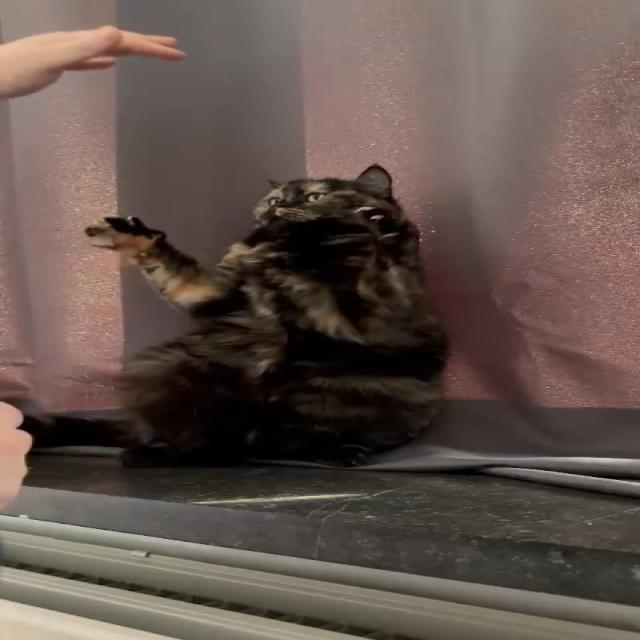authorized: (81, 162, 451, 469)
